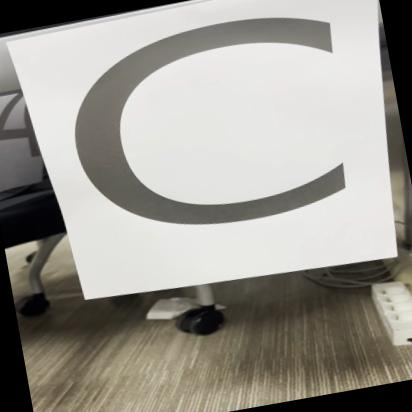seat: (0, 0, 412, 338)
